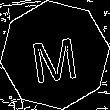M_N: (28, 27, 82, 83)
